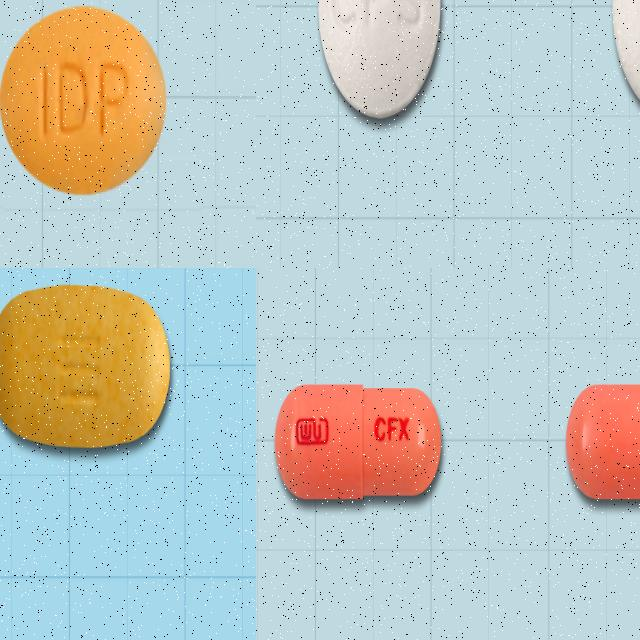Cefixime Cap- Withus: (273, 379, 447, 511), (564, 379, 640, 509)
Ciproxin: (316, 0, 446, 124)
Ciracle: (0, 2, 171, 198)
Clararoxin: (0, 277, 175, 453)
